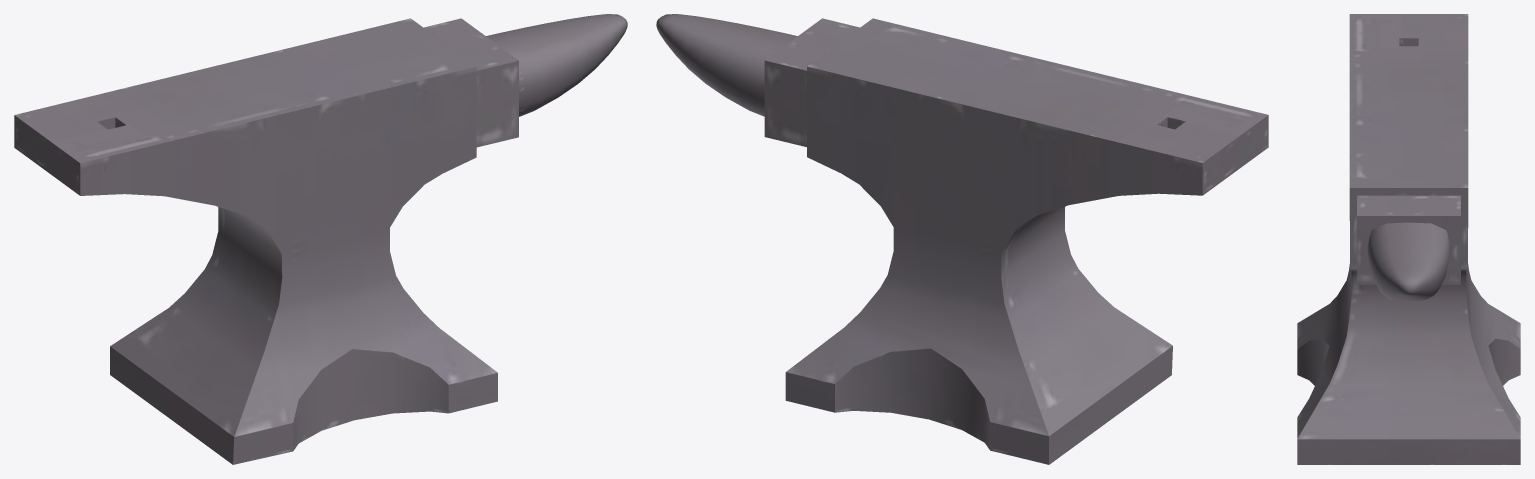
Rendered from anvil.glb.
3 renders of one model, left to right at view 1: azimuth 30°, elevation 25°; view 2: azimuth 150°, elevation 25°; view 3: azimuth 270°, elevation 25°, orthographic. The views are drawn at different scales.
Visible parts, largest first — view 1: Anvil; view 2: Anvil; view 3: Anvil.
Part boxes in pixels (x1,y1,x2,y2): Anvil: [14, 14, 627, 464]; Anvil: [656, 14, 1268, 464]; Anvil: [1297, 14, 1520, 464].
Bounding box in the file's own units: 1.08 × 0.5561 × 0.4016.
Materials: 1 (1 with a texture image).
